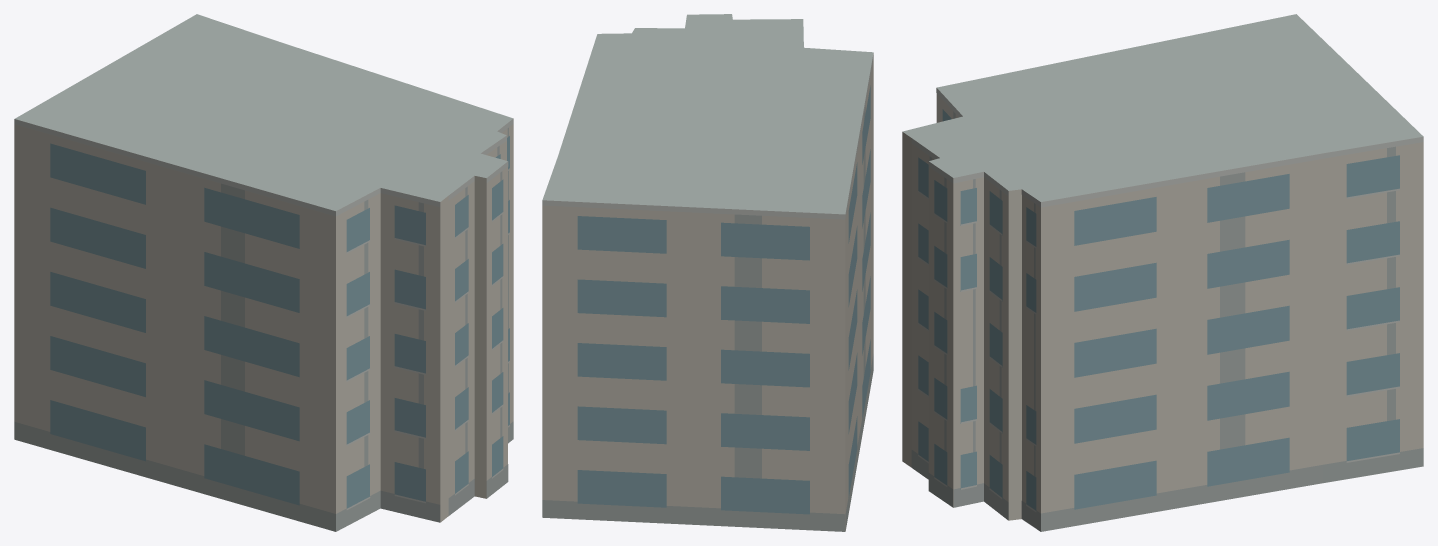
File: survey-upis-33024389.glb
3 views of the same model, side by side, from view 1: azimuth 30°, elevation 25°; view 2: azimuth 150°, elevation 25°; view 3: azimuth 270°, elevation 25° (orthographic). The views are drawn at different scales.
Visible parts, largest first — view 1: survey-upis-33024389.tmp; view 2: survey-upis-33024389.tmp; view 3: survey-upis-33024389.tmp.
Part boxes in pixels (x1=…): survey-upis-33024389.tmp: x1=14, y1=14, x2=513, y2=531; survey-upis-33024389.tmp: x1=542, y1=14, x2=873, y2=531; survey-upis-33024389.tmp: x1=902, y1=14, x2=1423, y2=531.
Size of the model in its own units: 18.12 by 14.8 by 21.22.
